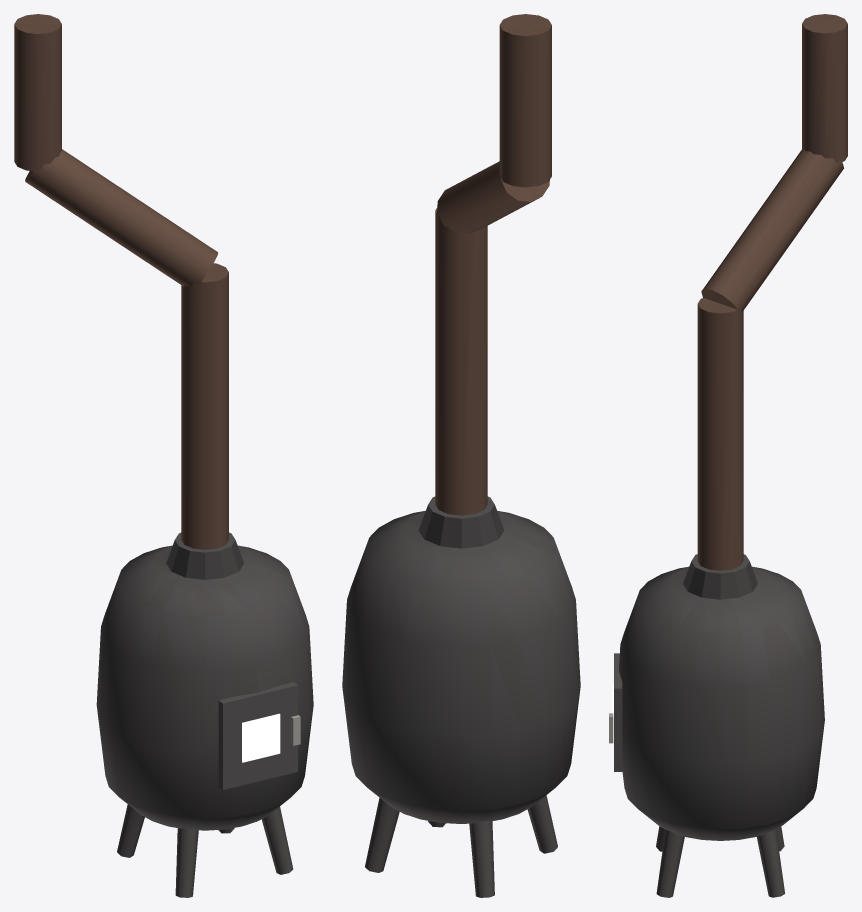
Rendered from cabin_stove_a_lit.glb.
3 views of the same model, side by side, from view 1: azimuth 30°, elevation 25°; view 2: azimuth 150°, elevation 25°; view 3: azimuth 270°, elevation 25° (orthographic). The views are drawn at different scales.
Parts seen in each view (by area): view 1: body, door; view 2: body; view 3: body, door.
Boxes of the visible parts, x1=… form: body: x1=14, y1=14, x2=313, y2=897; door: x1=218, y1=682, x2=300, y2=789; body: x1=342, y1=14, x2=580, y2=897; body: x1=619, y1=14, x2=847, y2=897; door: x1=609, y1=653, x2=622, y2=771.
Bounding box in the file's own units: 0.605 × 2.1 × 0.572.
